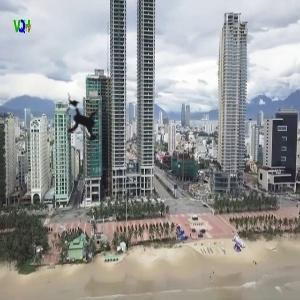drone: (37, 78, 127, 168)
